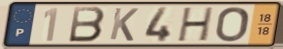1: (42, 7, 60, 43)
4: (143, 5, 174, 44)
B: (67, 6, 107, 44)
H: (175, 6, 216, 43)
K: (108, 6, 141, 43)
O: (214, 6, 251, 43)
